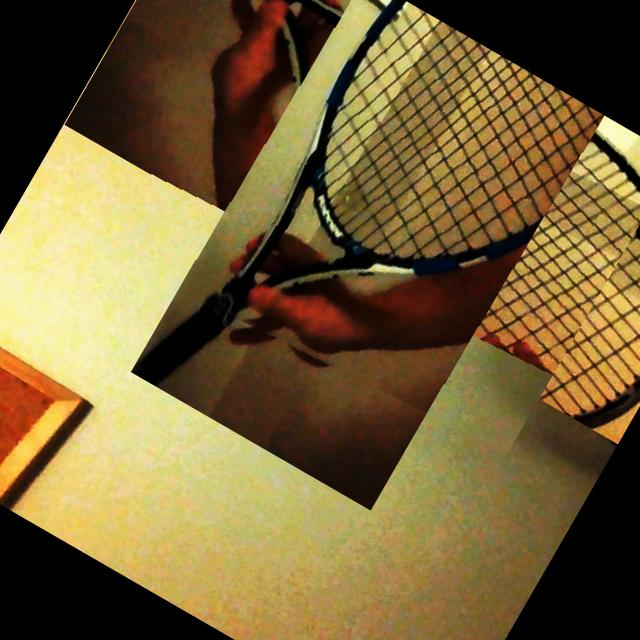TennisRacket: (97, 0, 640, 477)
